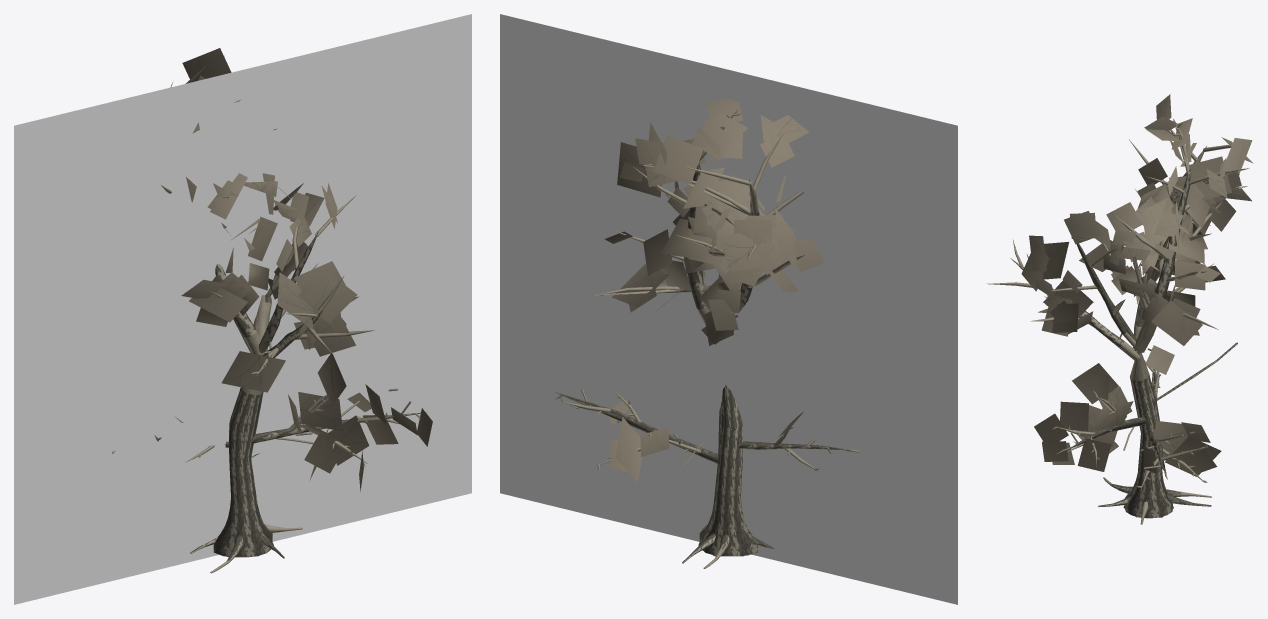
Rendered from mort_adulte_a.fbx.
3 renders of one model, left to right at view 1: azimuth 30°, elevation 25°; view 2: azimuth 150°, elevation 25°; view 3: azimuth 270°, elevation 25°, orthographic. The views are drawn at different scales.
Visible parts, largest first — view 1: mort_adulte_a_LOD3, mort_adulte_a_LOD2, mort_adulte_a_LOD1; view 2: mort_adulte_a_LOD3, mort_adulte_a_LOD1, mort_adulte_a_LOD2; view 3: mort_adulte_a_LOD1, mort_adulte_a_LOD2.
Part boxes in pixels (x1=…): mort_adulte_a_LOD3: x1=14, y1=14, x2=471, y2=604; mort_adulte_a_LOD2: x1=155, y1=48, x2=398, y2=572; mort_adulte_a_LOD1: x1=112, y1=56, x2=432, y2=573; mort_adulte_a_LOD3: x1=500, y1=14, x2=957, y2=604; mort_adulte_a_LOD1: x1=554, y1=109, x2=859, y2=568; mort_adulte_a_LOD2: x1=555, y1=99, x2=848, y2=568; mort_adulte_a_LOD1: x1=988, y1=94, x2=1248, y2=524; mort_adulte_a_LOD2: x1=986, y1=119, x2=1253, y2=523.
Size of what is drawn, in the model's own units: 15.84 by 15.84 by 9.53.
